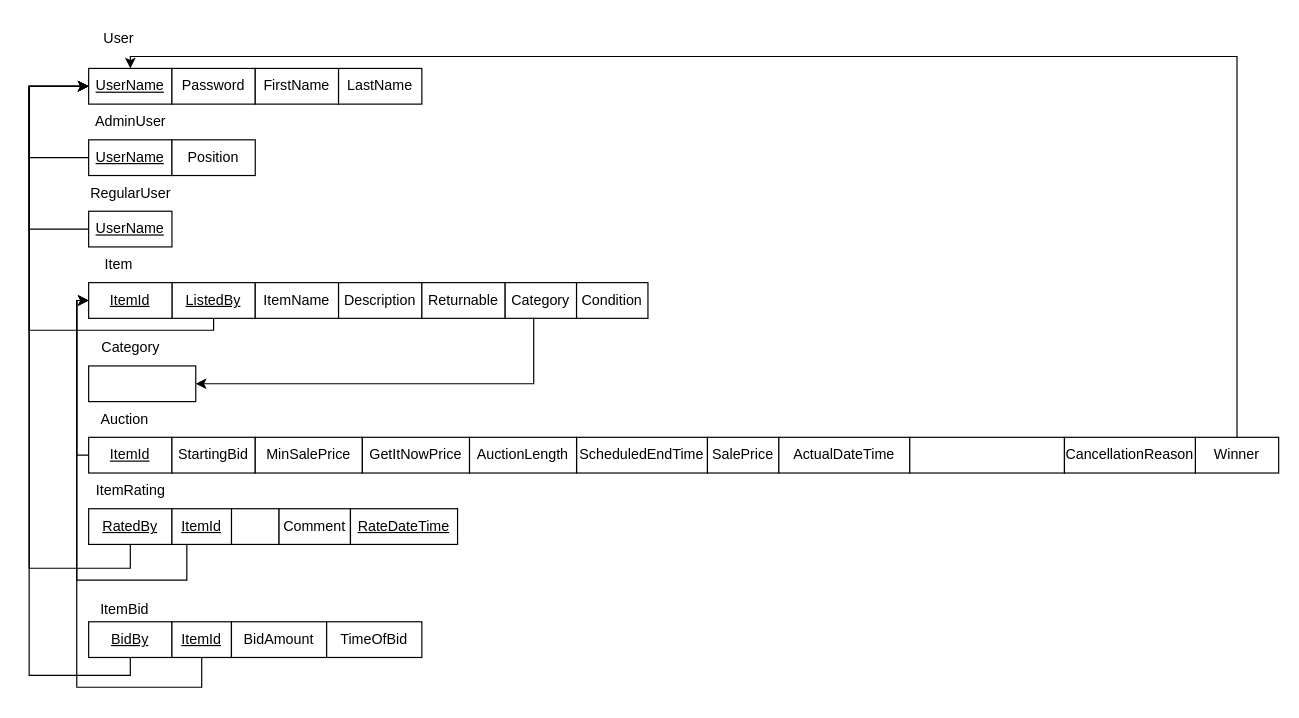
Some shapes in this 1299 by 718 pixel diagram are drawn without their labels. The shapes that lost their labels are listed below. From the top down, each one's centre as x and y in pixels, then its label:
[141,383]: CategoryName
[986,454]: CancellationDateTime
[254,526]: Stars
